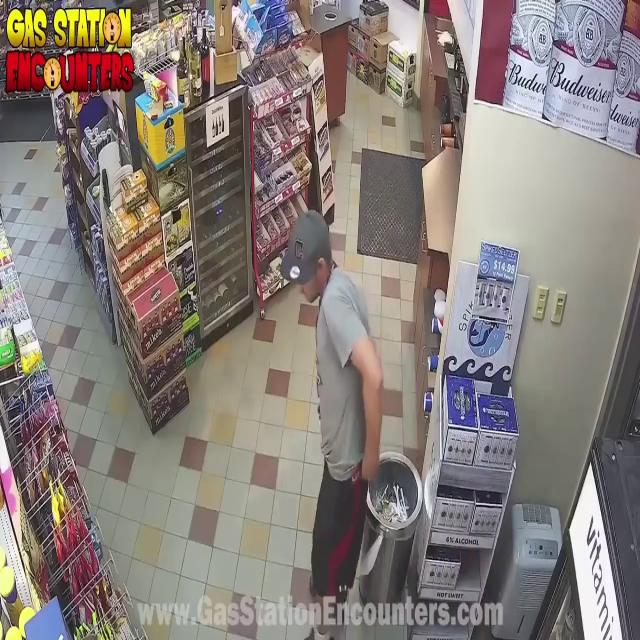normal: (255, 212, 422, 622)
